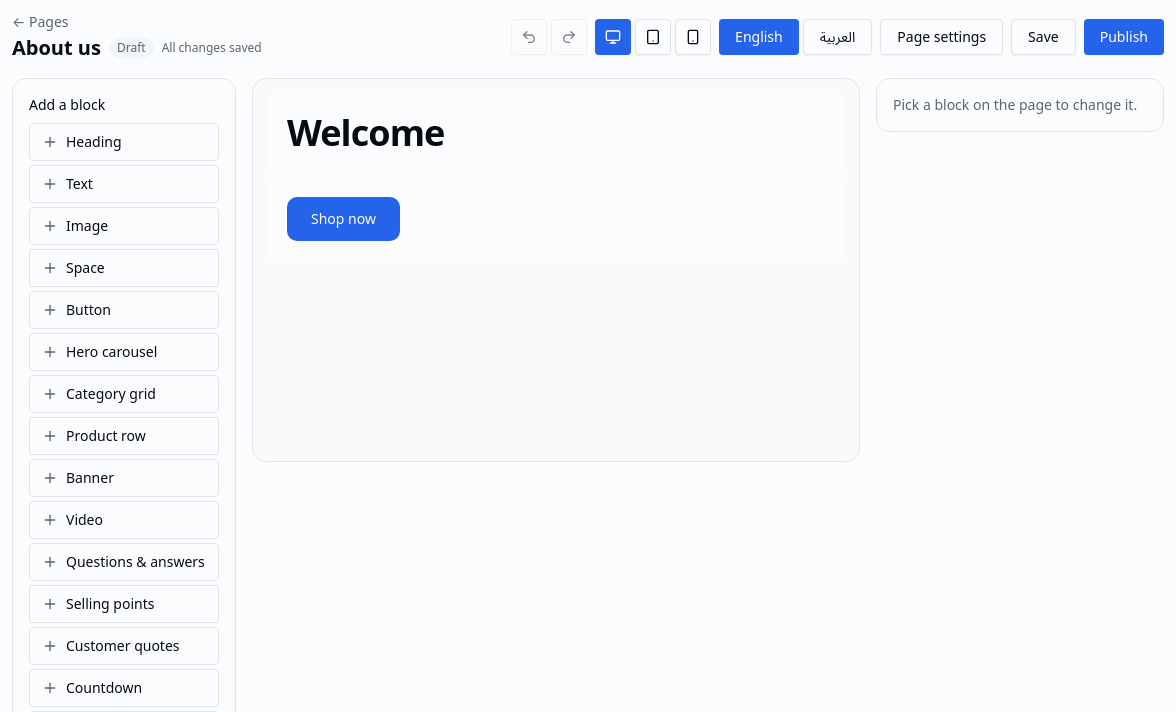
Test: the canvas › shows the page in Arabic, right to left, without touching what is stored
The width and height of the screenshot is (1176, 712).
Click the button "العربية" at (838, 37), box top-left (803, 19), bottom-right (872, 55)
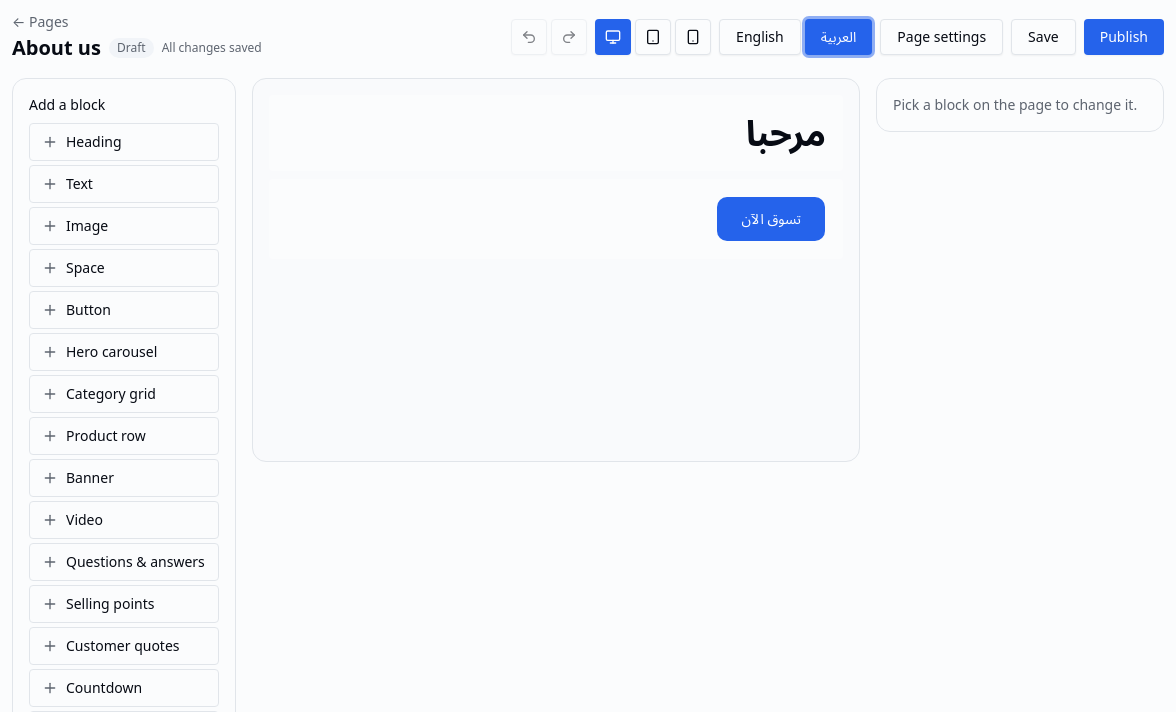
Check: the heading "مرحبا" is shown, box top-left (746, 108), bottom-right (825, 157)
